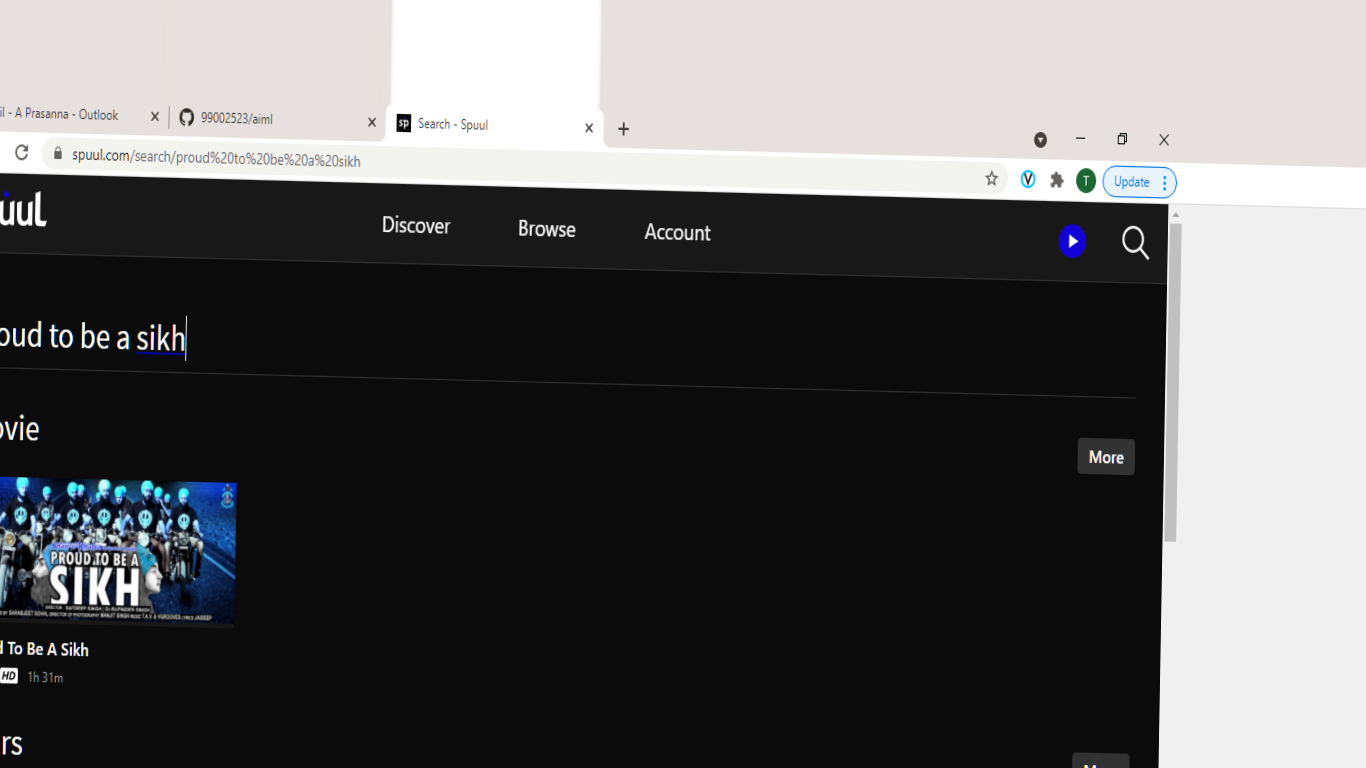myaccountbutton: (626, 203, 730, 264)
searchicon: (1114, 215, 1160, 277)
searchtextbox: (1, 292, 1133, 398)
